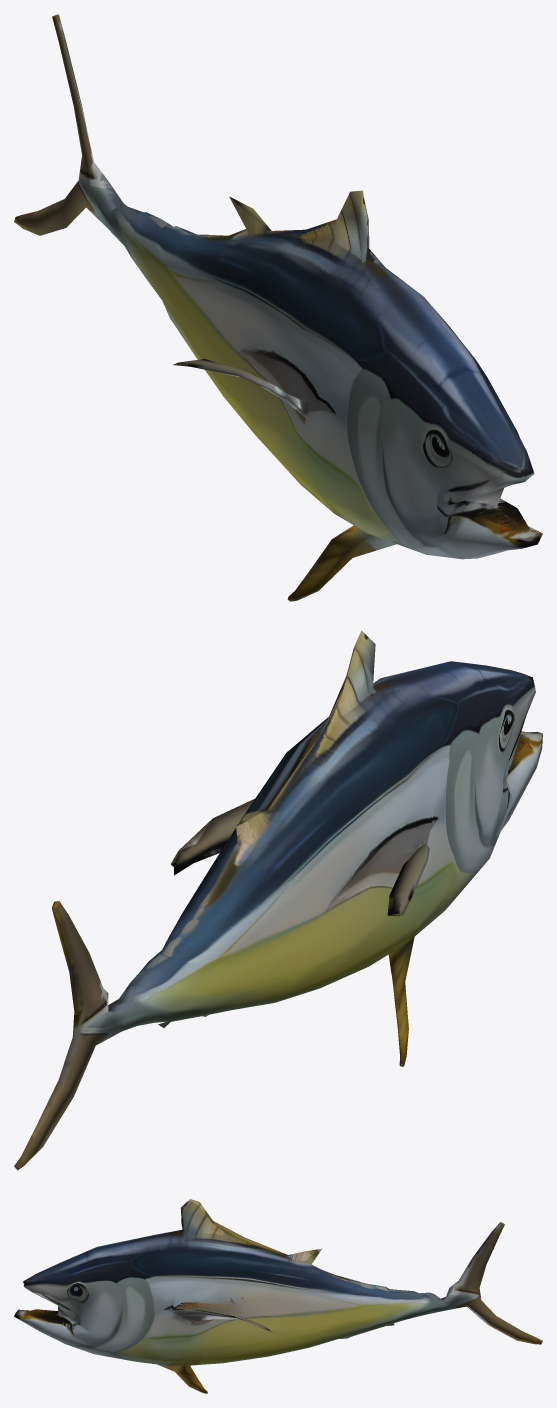
The model's file is Tuna.fbx.
The picture shows the model from 3 angles, top to bottom: view 1: azimuth 30°, elevation 25°; view 2: azimuth 150°, elevation 25°; view 3: azimuth 270°, elevation 25°; orthographic projection. The views are drawn at different scales.
Visible parts, largest first — view 1: Tuna; view 2: Tuna; view 3: Tuna.
Boxes of the visible parts, x1,y1,x2,y2 form: Tuna: [14, 14, 542, 601]; Tuna: [14, 630, 542, 1170]; Tuna: [14, 1199, 542, 1393].
Size of the model in its own units: 25.48 by 43.4 by 99.53.
1 material, 1 textured.
